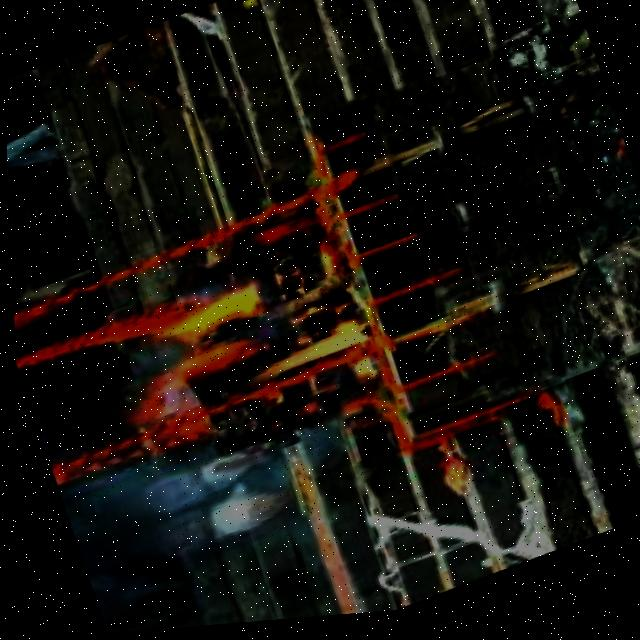Smoke: (126, 244, 385, 442)
